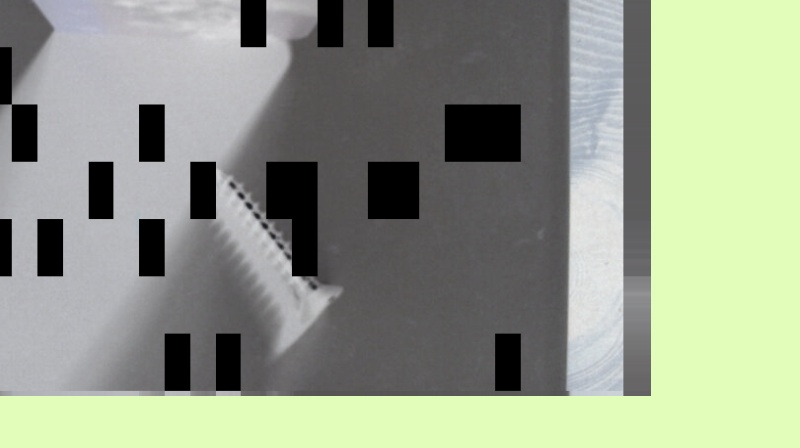S001: (205, 163, 345, 323)
